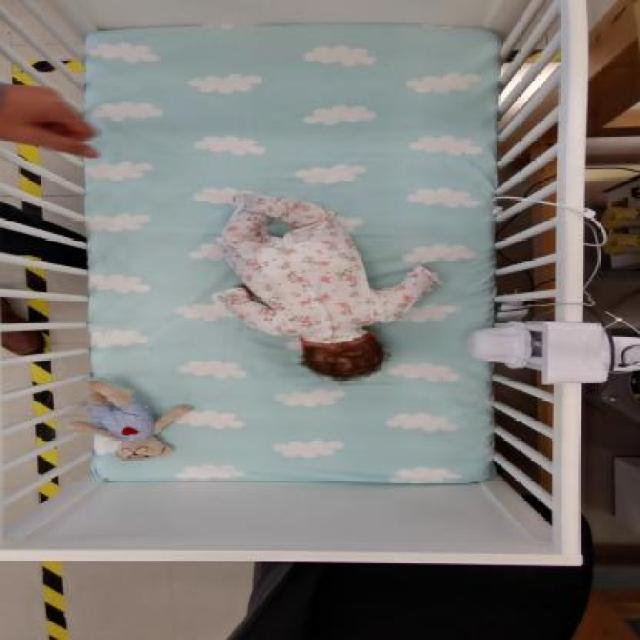baby: (217, 192, 446, 386)
